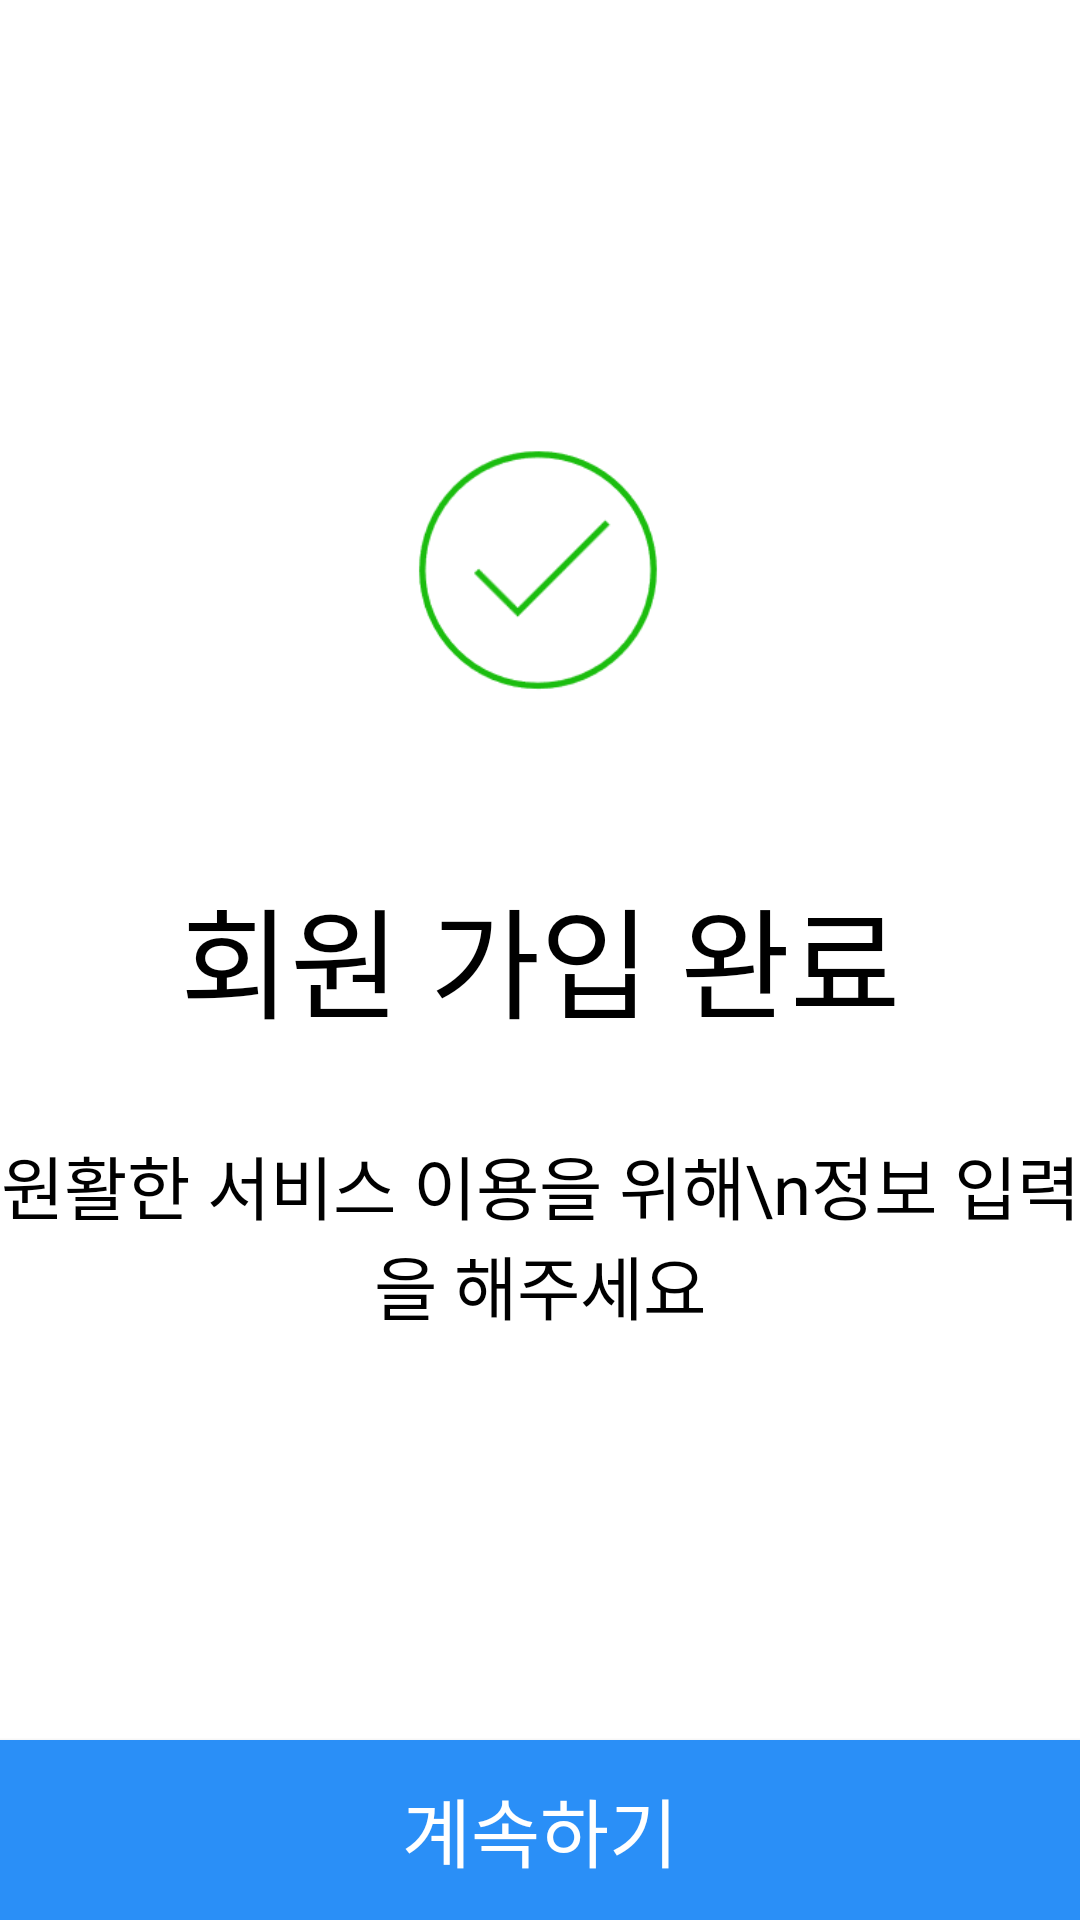

Screen size 1080w x 1920h. Icon name, then its center in pixels as (x,y):
done: (538,570)
